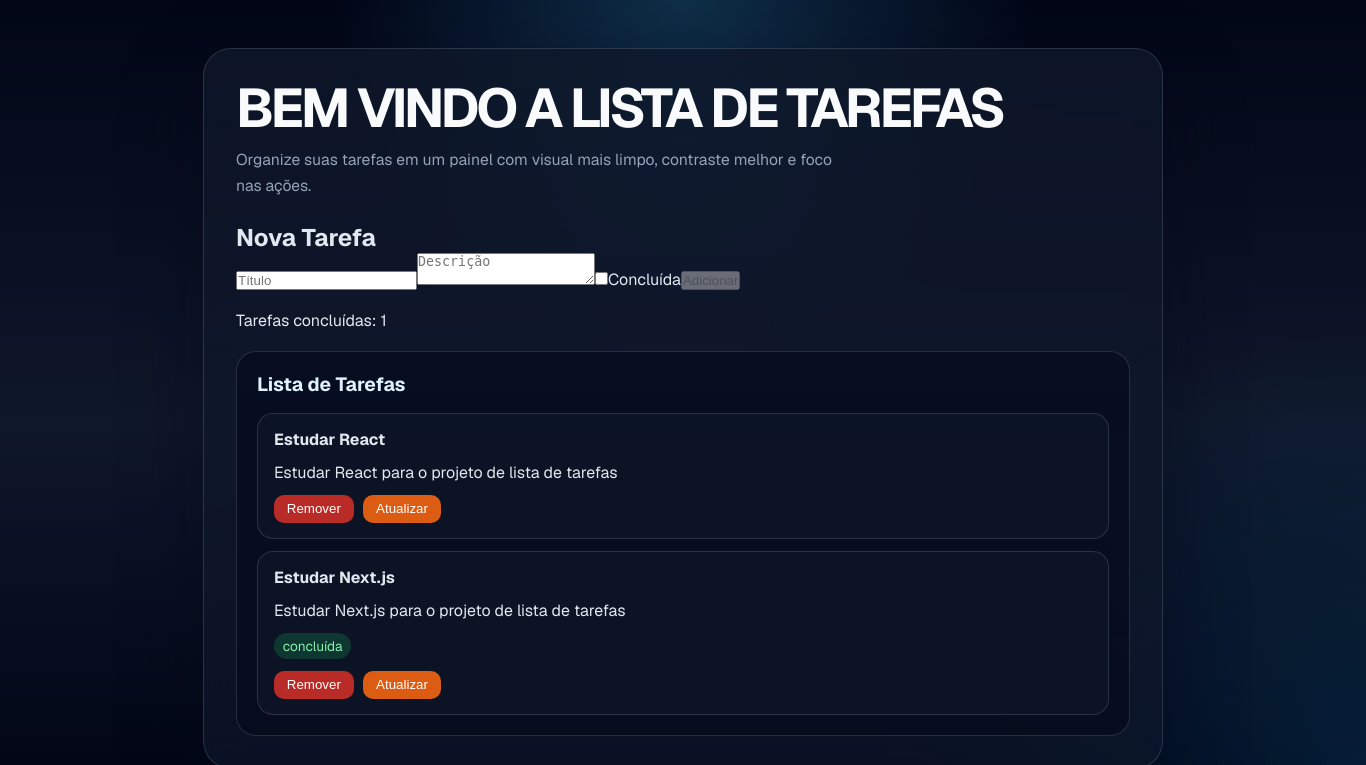
it: TarefaClient › deve editar o título e marcar a tarefa como concluída
Click the 1st button "Atualizar": [402, 509] box [363,495,441,523]
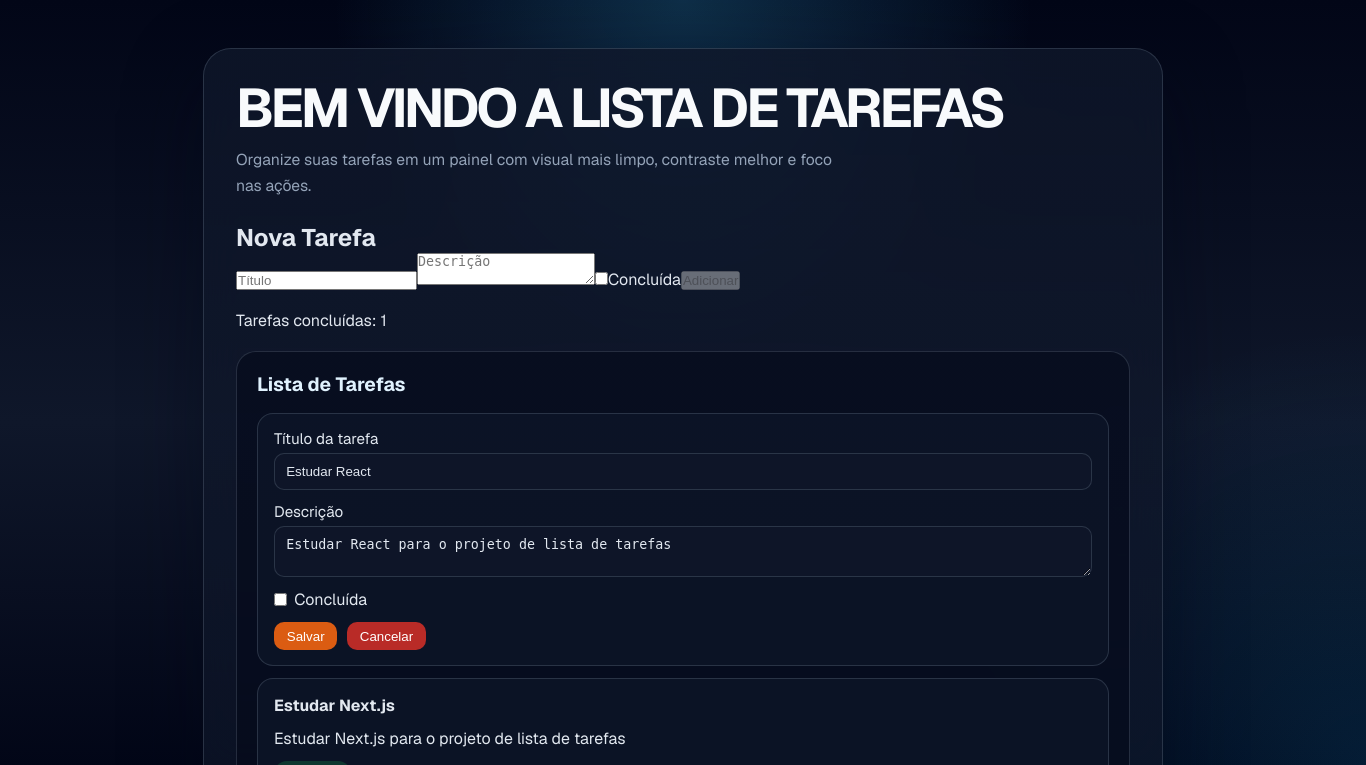
Replace the text in the field labelled "Título da tarefa" with "Estudar React atualizado": [683, 472] box [274,453,1092,490]
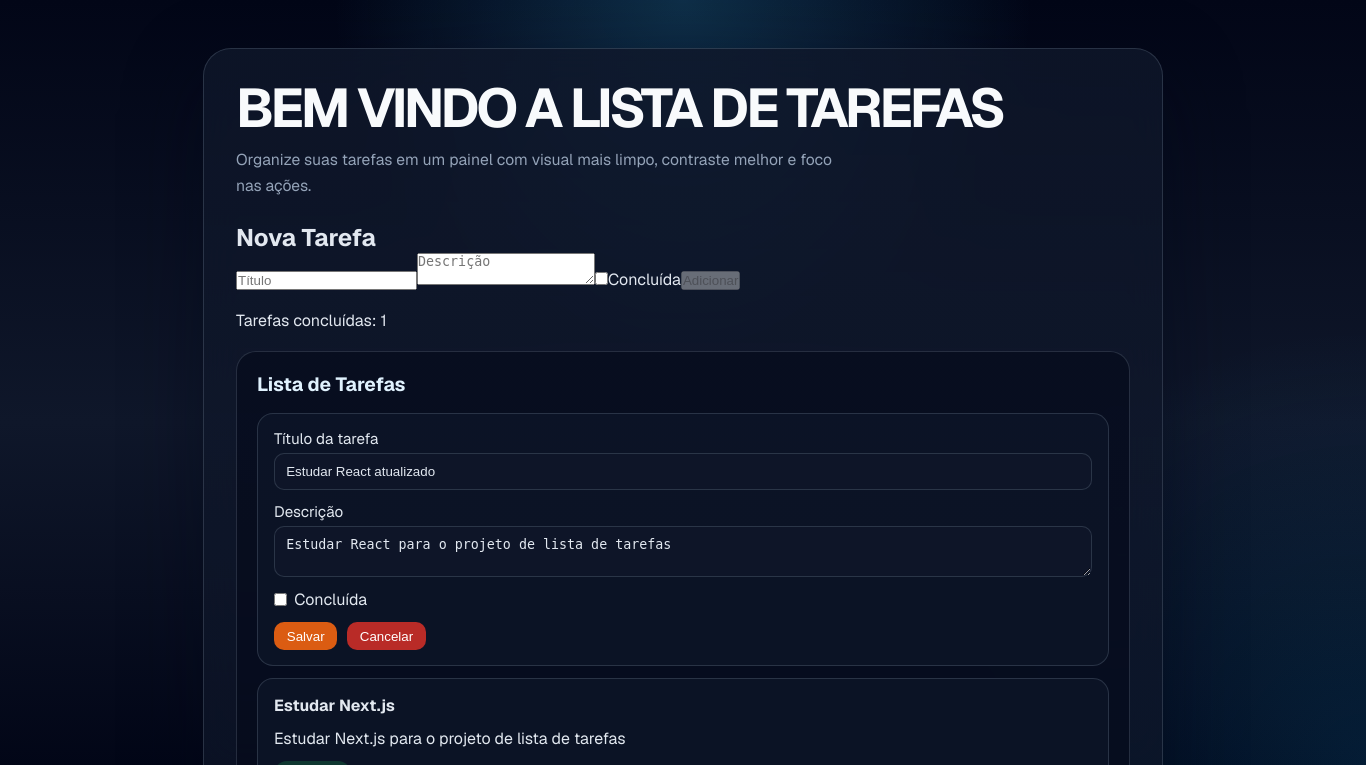
Click the checkbox labelled "Concluída" below "Descrição": [280, 600] box [274,593,287,606]
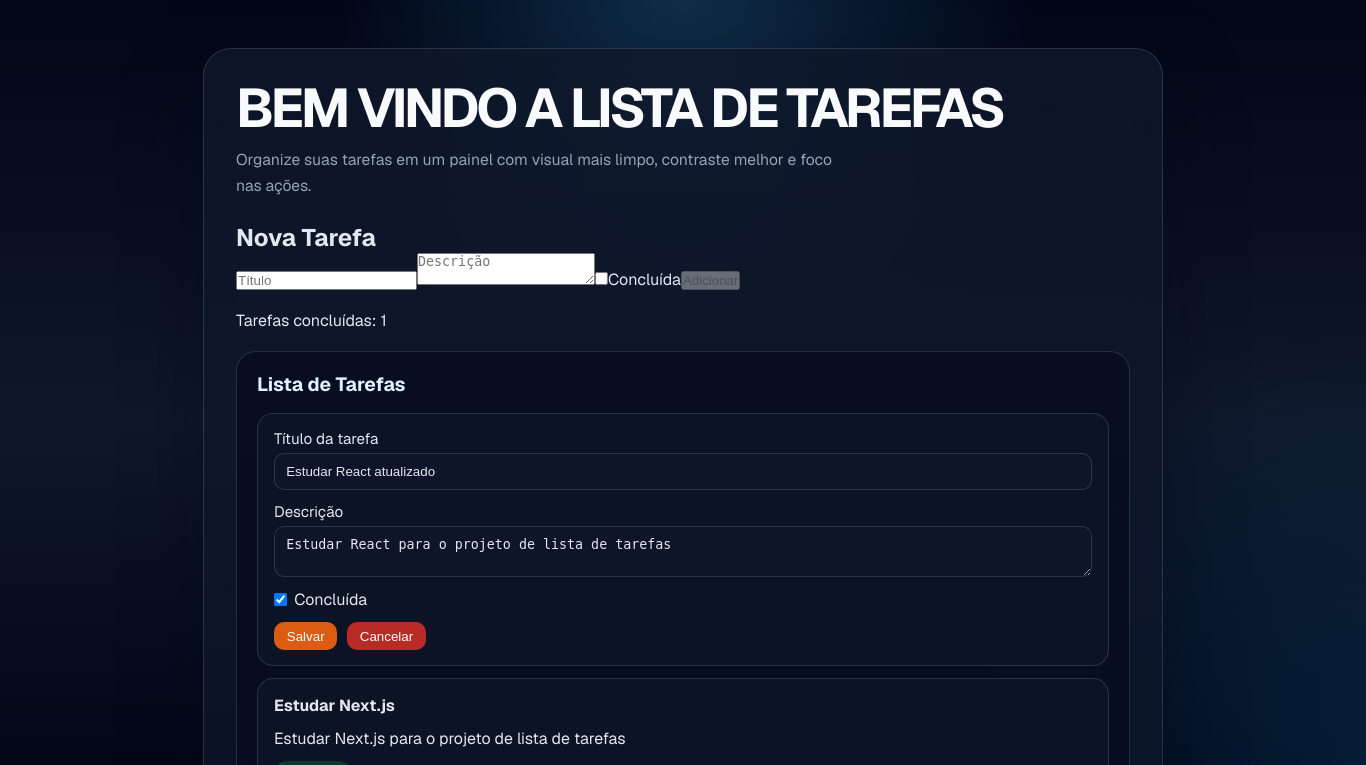
Click the button "Salvar": [306, 636] box [274,622,337,650]
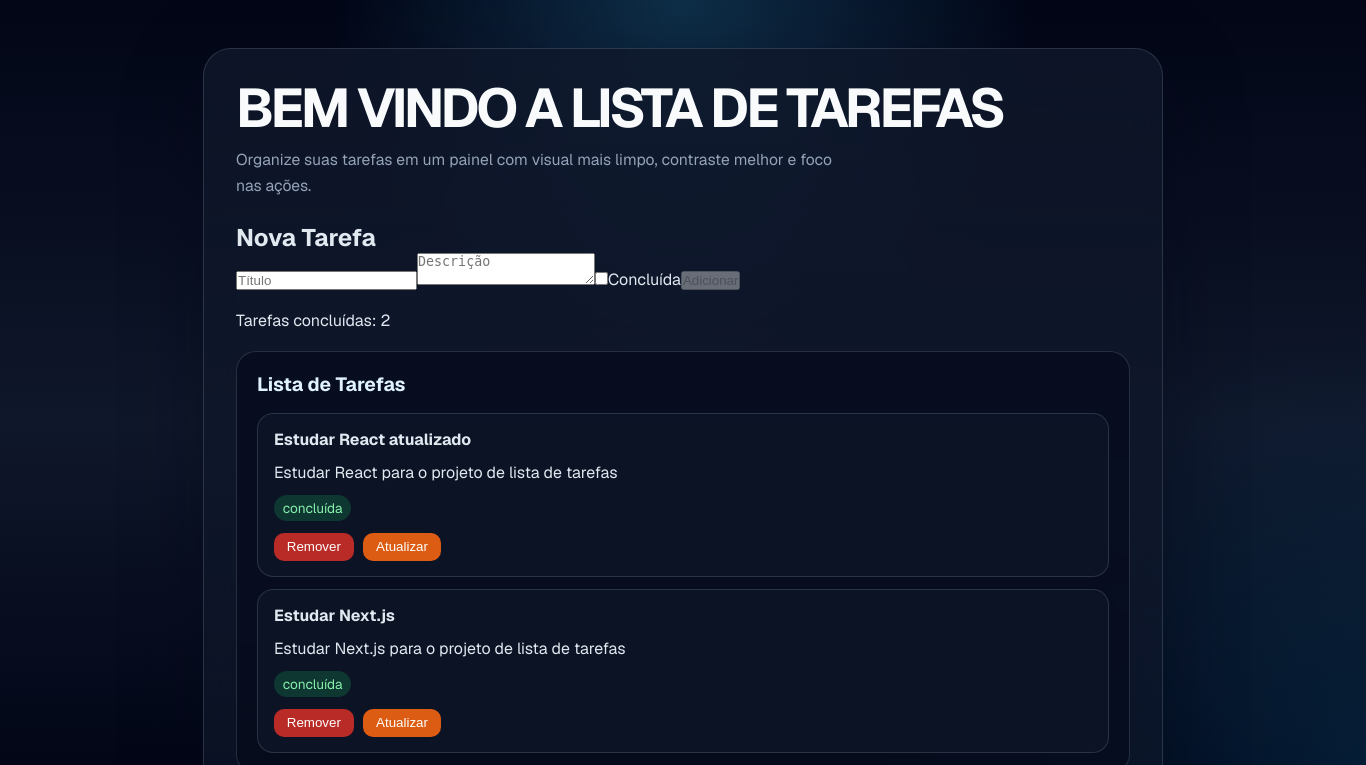
Expected: the text "Concluída" is shown, [595,269,681,290]
Result: the text "Estudar React atualizado" is shown at [274,429,471,450]
